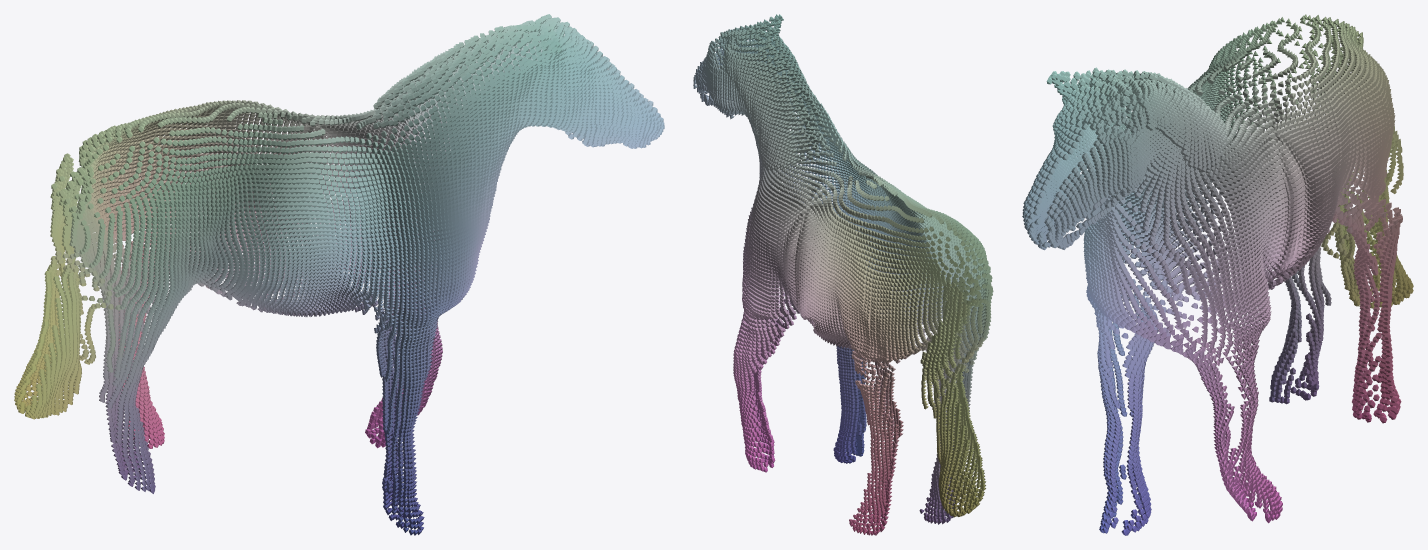
The model's file is 2008_005166_2_pcan.glb.
3 renders of one model, left to right at view 1: azimuth 30°, elevation 25°; view 2: azimuth 150°, elevation 25°; view 3: azimuth 270°, elevation 25°, orthographic. The views are drawn at different scales.
Parts seen in each view (by area): view 1: target; view 2: target; view 3: target.
Part boxes in pixels (x1=…): target: x1=14, y1=14, x2=664, y2=535; target: x1=693, y1=14, x2=993, y2=535; target: x1=1022, y1=14, x2=1413, y2=535.
Bounding box in the file's own units: 2.37 × 2.24 × 1.52.
